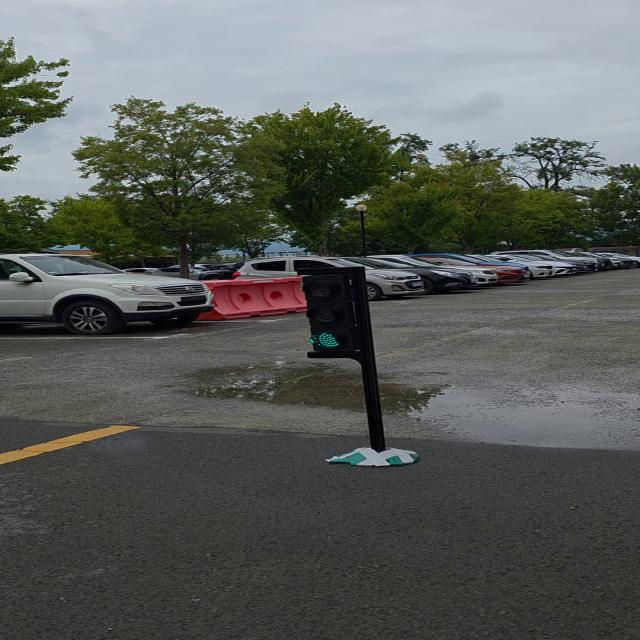green: (302, 268, 363, 359)
